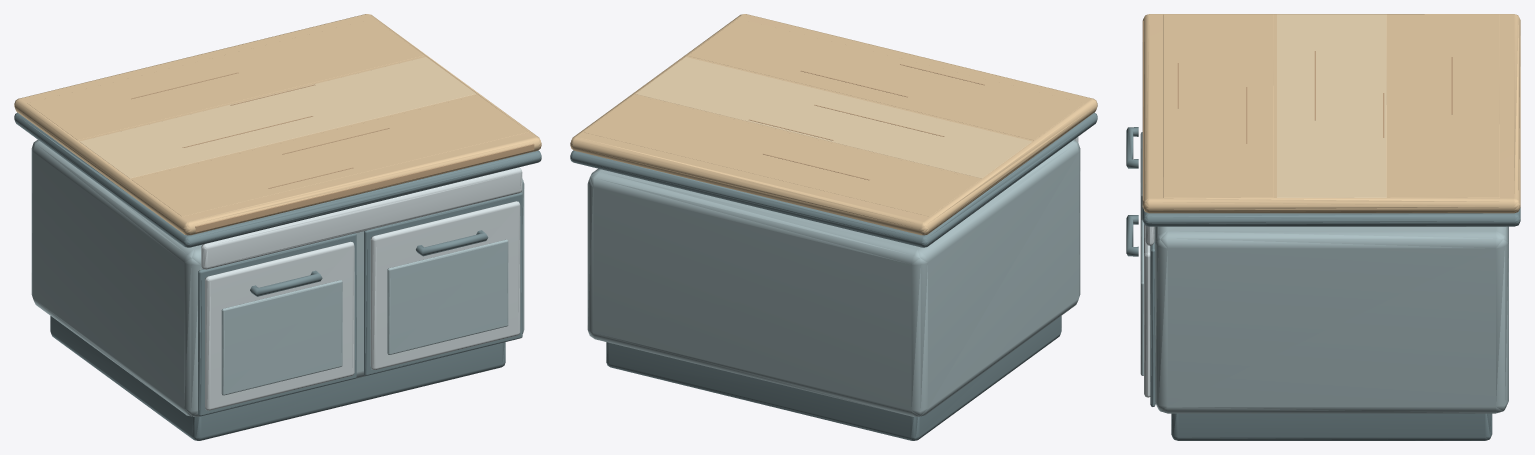
File: CounterStraight.fbx
3 renders of one model, left to right at view 1: azimuth 30°, elevation 25°; view 2: azimuth 150°, elevation 25°; view 3: azimuth 270°, elevation 25°, orthographic. The views are drawn at different scales.
Visible parts, largest first — view 1: CounterStraight; view 2: CounterStraight; view 3: CounterStraight.
Boxes of the visible parts, x1,y1,x2,y2 form: CounterStraight: (14,14,541,440); CounterStraight: (570,14,1097,440); CounterStraight: (1126,14,1520,440).
Bounding box in the file's own units: 1.9 × 1.19 × 1.67.
